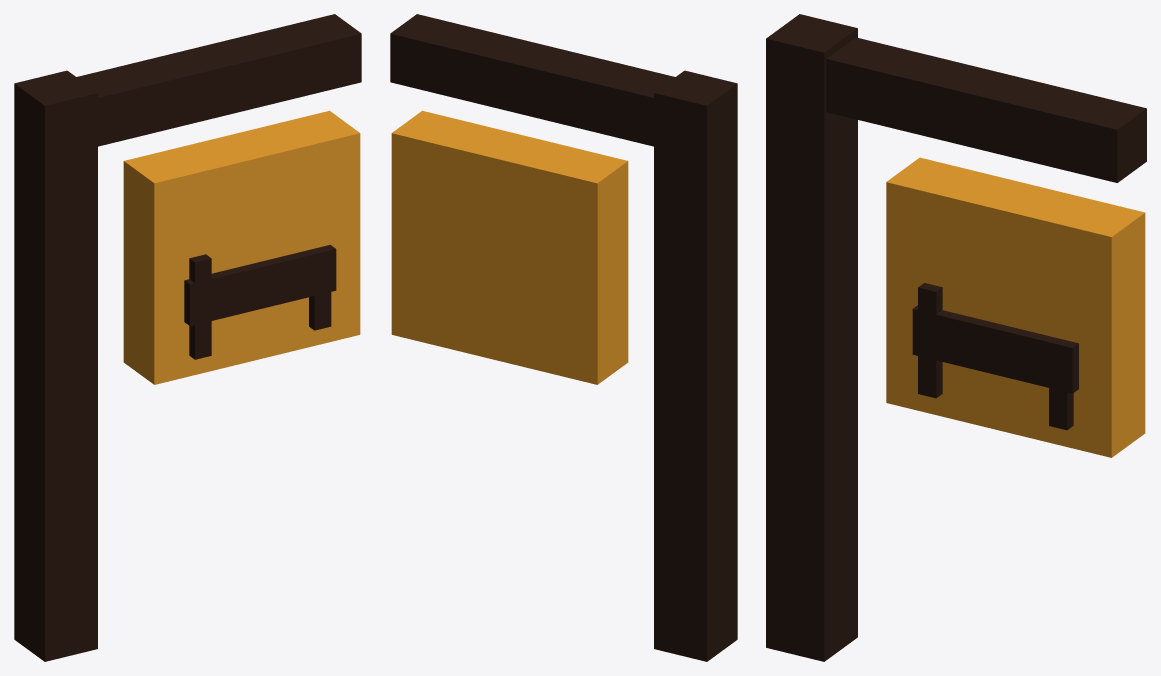
The model's file is InnSign.fbx.
3 renders of one model, left to right at view 1: azimuth 30°, elevation 25°; view 2: azimuth 150°, elevation 25°; view 3: azimuth 330°, elevation 25°, orthographic. The views are drawn at different scales.
Parts seen in each view (by area): view 1: InnSign; view 2: InnSign; view 3: InnSign.
Boxes of the visible parts, left/top/right/bottom form: InnSign: left=14, top=14, right=361, bottom=661; InnSign: left=390, top=14, right=737, bottom=661; InnSign: left=766, top=14, right=1146, bottom=661.
Bounding box in the file's own units: 48 × 80 × 9.5.
